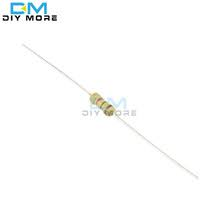resistor: (79, 79, 132, 128)
